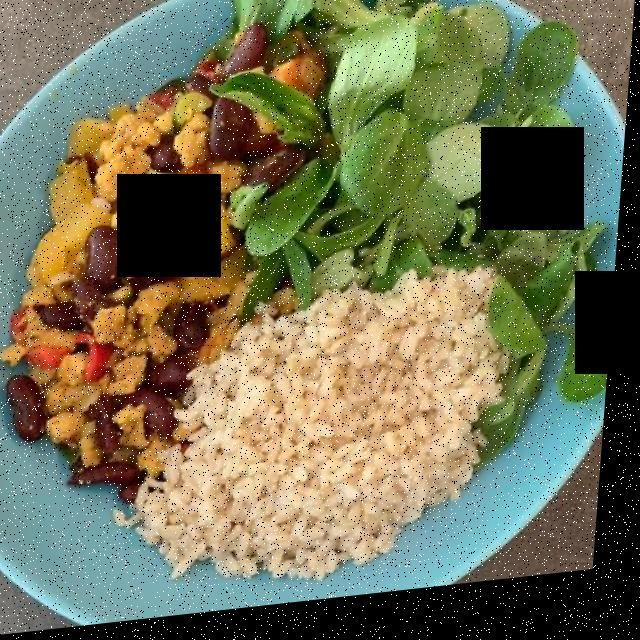bell-pepper: (18, 170, 204, 386)
rice: (120, 272, 523, 594)
salad: (199, 0, 609, 455)
